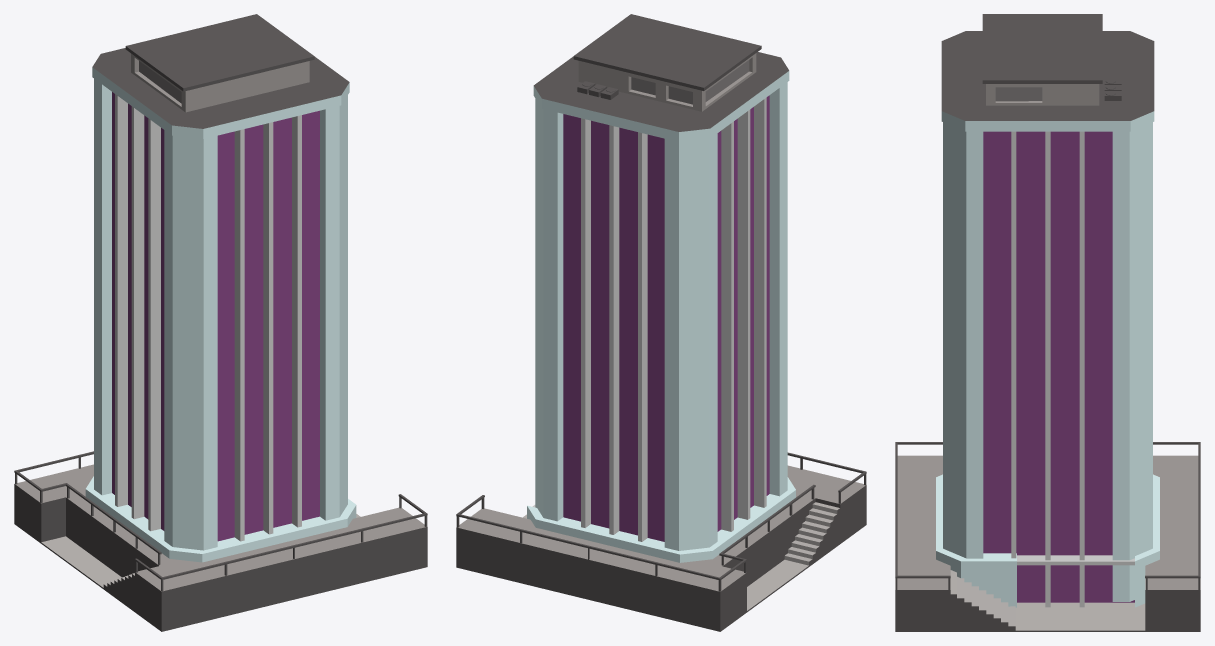
Rendered from building_8.fbx.
3 views of the same model, side by side, from view 1: azimuth 30°, elevation 25°; view 2: azimuth 150°, elevation 25°; view 3: azimuth 270°, elevation 25° (orthographic). The views are drawn at different scales.
Parts seen in each view (by area): view 1: building_8; view 2: building_8; view 3: building_8.
Part boxes in pixels (box(x1,y1,x2,y2)): building_8: box(14, 14, 427, 631); building_8: box(456, 14, 866, 631); building_8: box(895, 14, 1200, 631).
Size of the model in its own units: 1.65 by 2.95 by 1.59.
